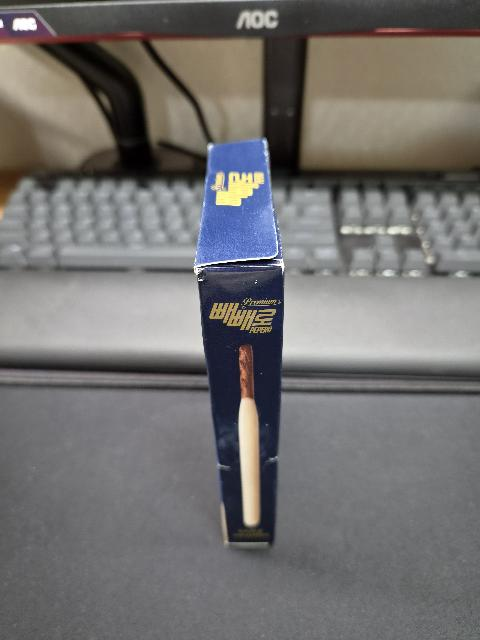pepero: (194, 138, 285, 548)
